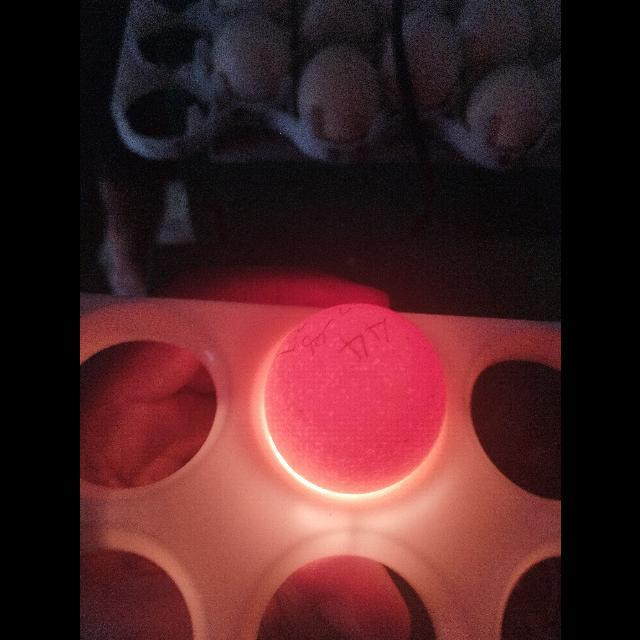Infertile: (260, 300, 450, 496)
